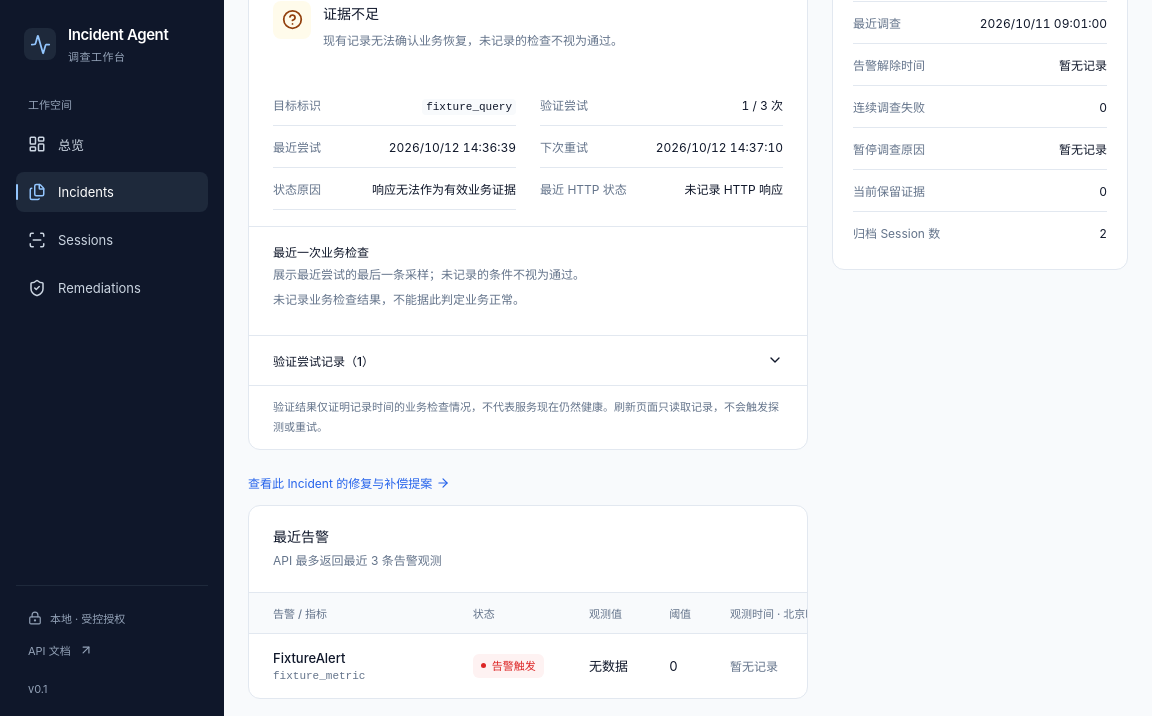
Scenario: keeps absent HTTP and missing checks distinct from healthy business evidence
(page scrolled)
Expected: the text "未记录 HTTP 响应" is shown, [684,180,783,197]
Expected: the text "未记录业务检查结果，不能据此判定业务正常。" is shown, [273,292,525,307]
Click the heading "验证尝试记录（1）": (315, 361) [273,352,783,369]
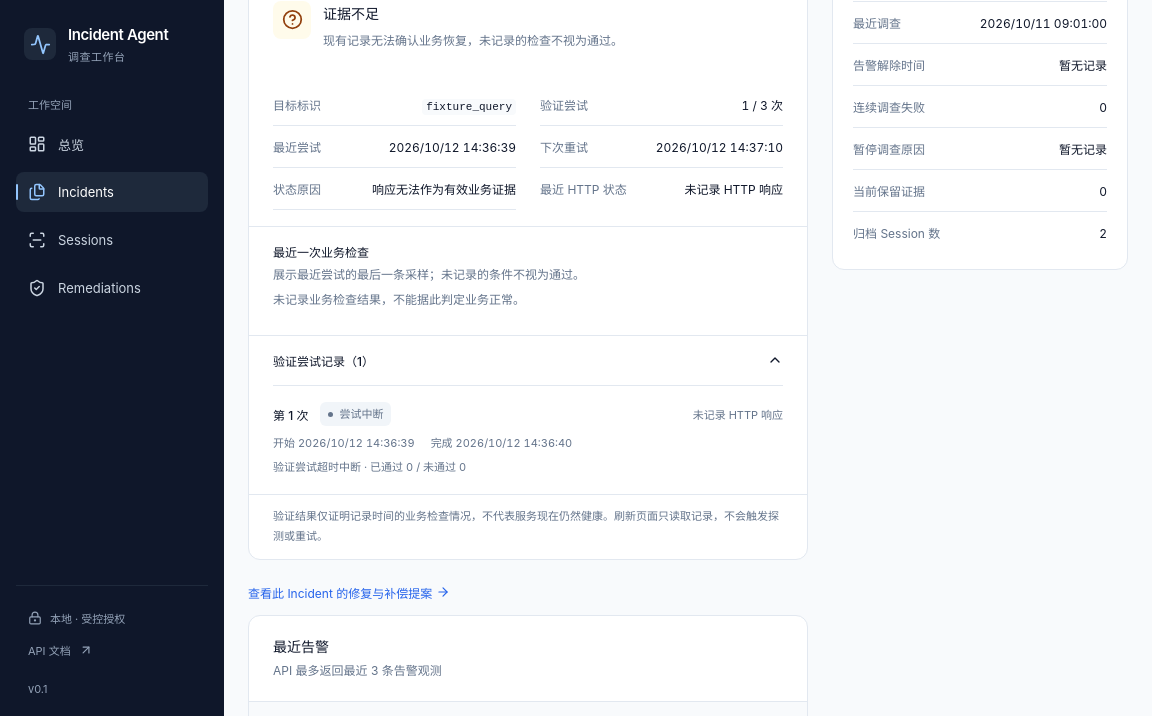
Expected: the text "尝试中断" is shown, [320,402,391,426]
